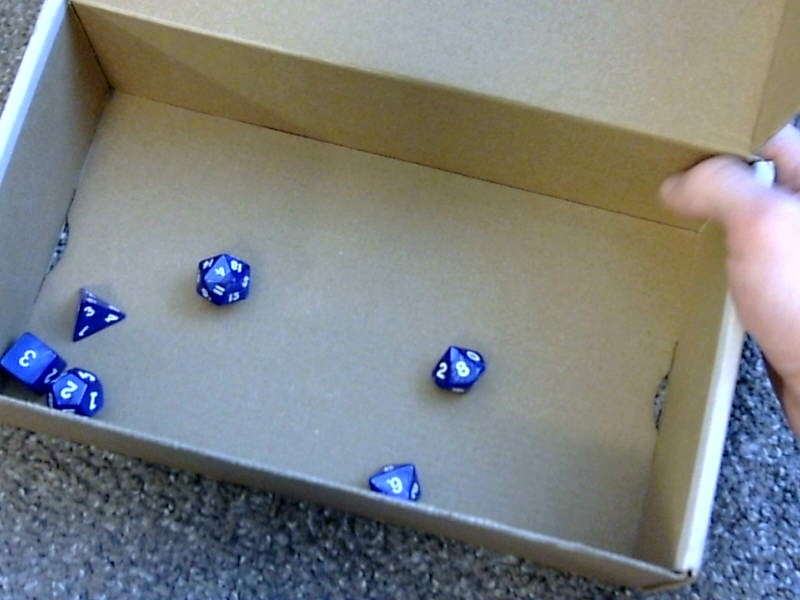d10 8: (428, 339, 489, 395)
d12 2: (50, 372, 112, 413)
d20 4: (192, 253, 257, 307)
d4 3: (71, 283, 133, 343)
d6 3: (0, 326, 61, 392)
d8 6: (366, 452, 433, 508)
